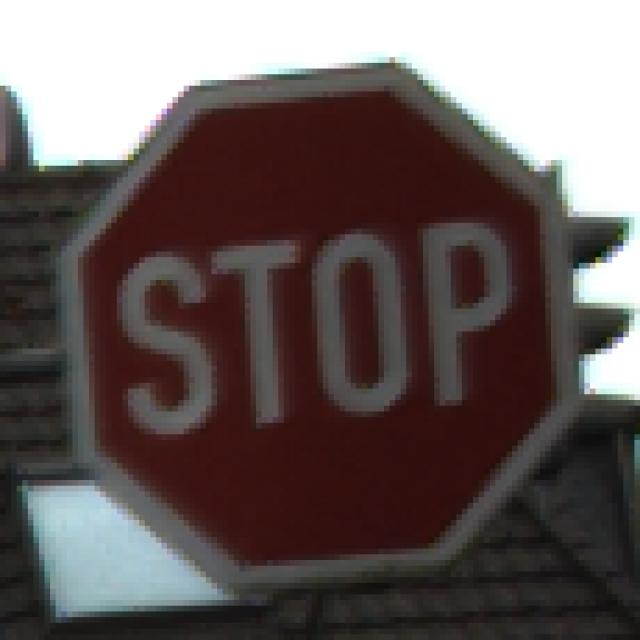STOP: (57, 58, 585, 590)
